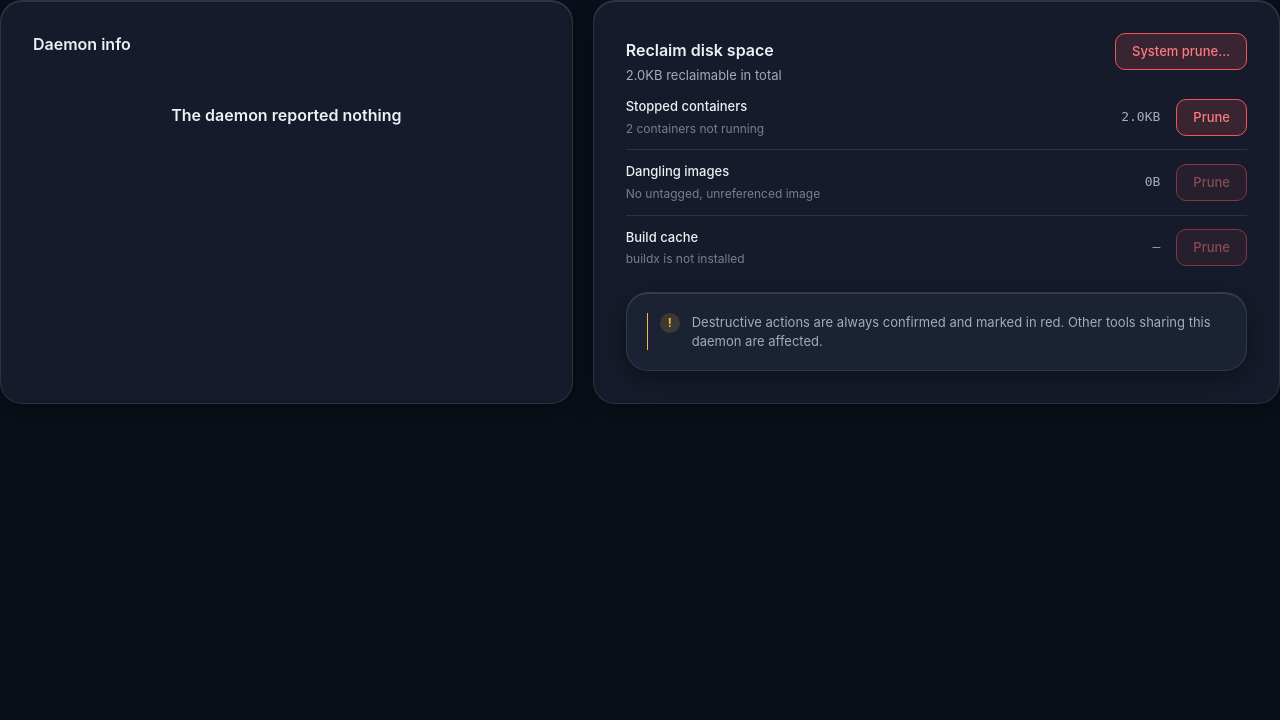
Test: SystemScreen — the scoped system prune (REQ-96, REQ-97) › offers a checkbox per category, pre-selecting the non-empty ones and refusing the unreadable one
Click the button "System prune…".
click(1181, 51)  # box x1=1115 y1=33 x2=1247 y2=70
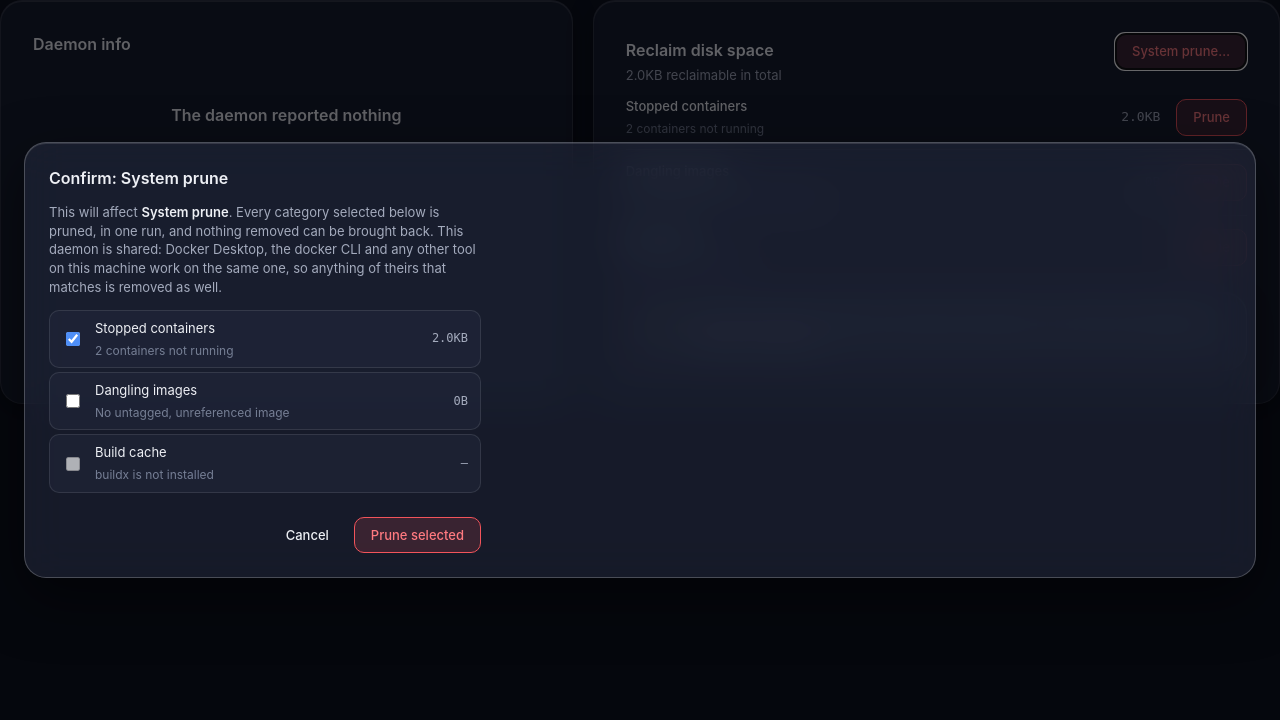
Expected: the number of checkboxes is 3, x1=66 y1=332 x2=80 y2=346; x1=66 y1=394 x2=80 y2=408; x1=66 y1=456 x2=80 y2=470
Expected: the checkbox labelled "Stopped containers" is checked, x1=66 y1=332 x2=80 y2=346
Expected: the checkbox labelled "Dangling images" is not checked, x1=66 y1=394 x2=80 y2=408
